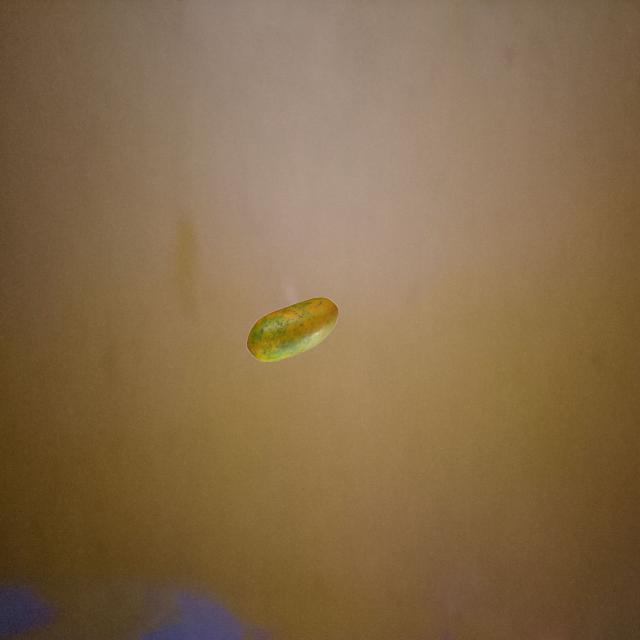Pepaya rippen: (232, 291, 351, 364)
